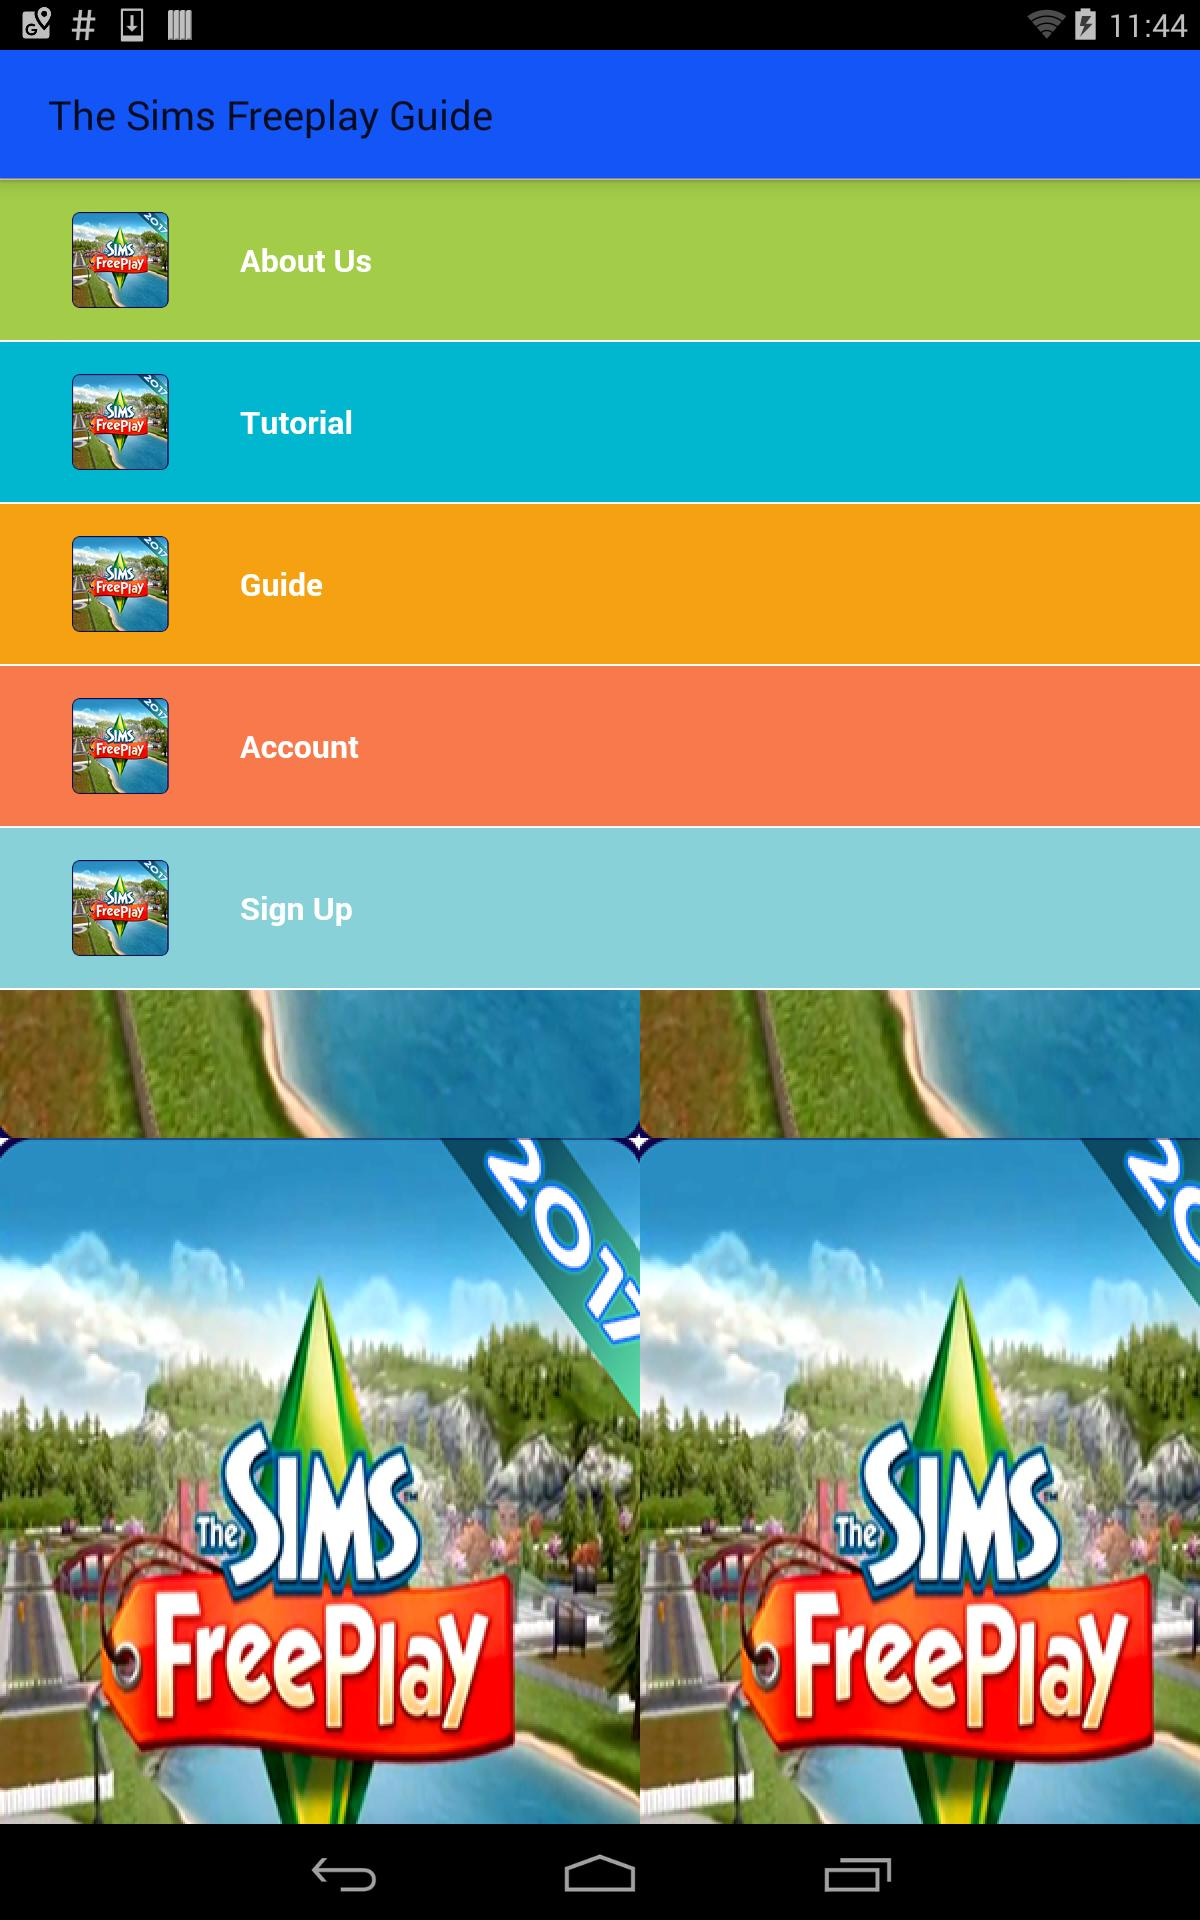android.view.View: (0, 50, 1200, 1825), (0, 178, 1200, 1825), (0, 178, 1200, 1002), (0, 663, 1200, 840), (0, 178, 1200, 354), (0, 340, 1200, 516), (0, 502, 1200, 677), (0, 827, 1200, 1002), (0, 663, 1200, 827), (0, 178, 241, 988), (0, 178, 1200, 340), (0, 340, 1200, 502), (0, 502, 1200, 663), (0, 827, 1200, 988), (0, 198, 1200, 354), (0, 359, 1200, 516), (0, 684, 1200, 840), (0, 846, 1200, 1002), (0, 523, 1200, 677), (0, 50, 1200, 178), (0, 663, 241, 827), (0, 178, 241, 340), (0, 340, 241, 502), (0, 502, 241, 663), (0, 827, 241, 988), (0, 180, 241, 340), (0, 341, 241, 502), (0, 666, 241, 827), (0, 828, 241, 988), (0, 505, 241, 663), (71, 180, 170, 340), (71, 341, 170, 502), (71, 666, 170, 827), (71, 828, 170, 988), (71, 505, 170, 663)
android.widget.FrameLayout: (0, 0, 1200, 1825), (0, 50, 1200, 1825), (0, 178, 1200, 1825), (0, 50, 1200, 178)
android.widget.GridView: (0, 178, 1200, 990)
android.widget.LinearLayout: (0, 0, 1200, 1825), (0, 178, 1200, 1825)
android.widget.TextView: (48, 87, 494, 141)
